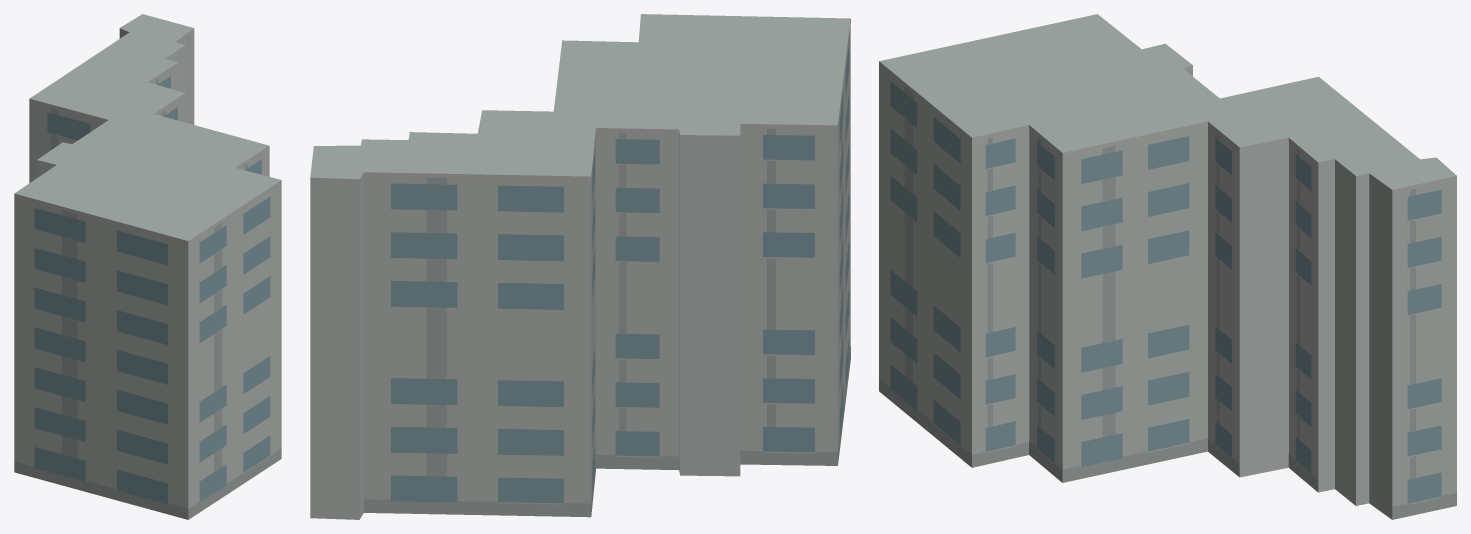
The model's file is survey-upis-32805940.glb.
3 renders of one model, left to right at view 1: azimuth 30°, elevation 25°; view 2: azimuth 150°, elevation 25°; view 3: azimuth 270°, elevation 25°, orthographic. The views are drawn at different scales.
Parts seen in each view (by area): view 1: survey-upis-32805940.tmp; view 2: survey-upis-32805940.tmp; view 3: survey-upis-32805940.tmp.
Boxes of the visible parts, x1,y1,x2,y2 form: survey-upis-32805940.tmp: [14, 14, 281, 519]; survey-upis-32805940.tmp: [310, 14, 850, 519]; survey-upis-32805940.tmp: [879, 14, 1456, 519].
Size of the model in its own units: 22.06 by 19.3 by 30.63.
